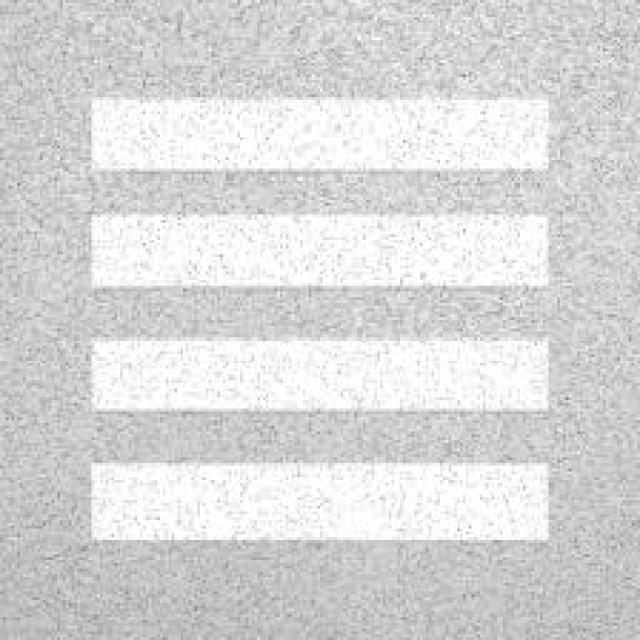crosswalk: (90, 106, 554, 542)
